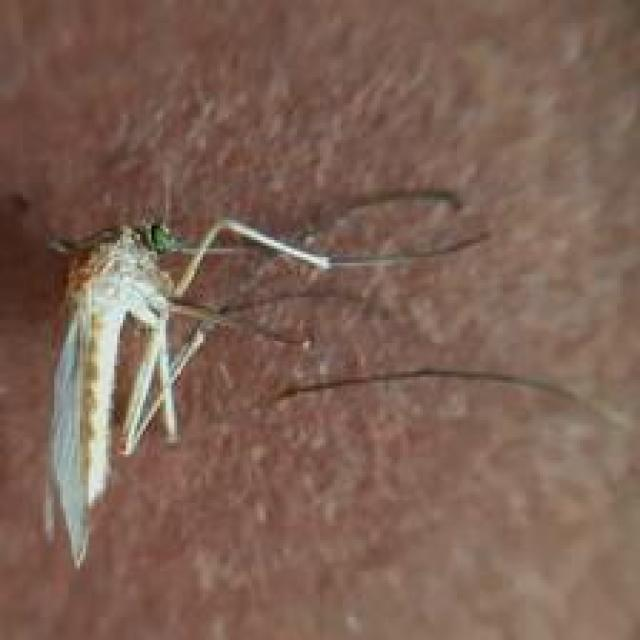Culex: (39, 187, 490, 570)
